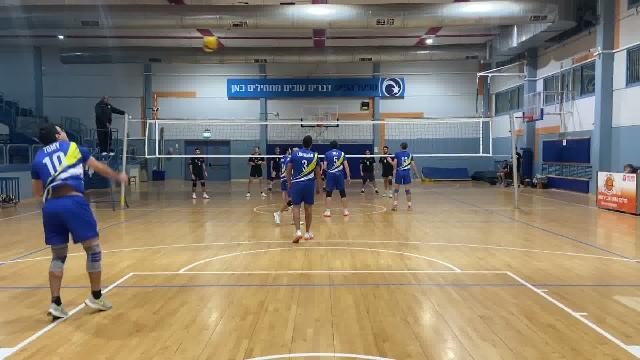ball: (202, 36, 221, 53)
